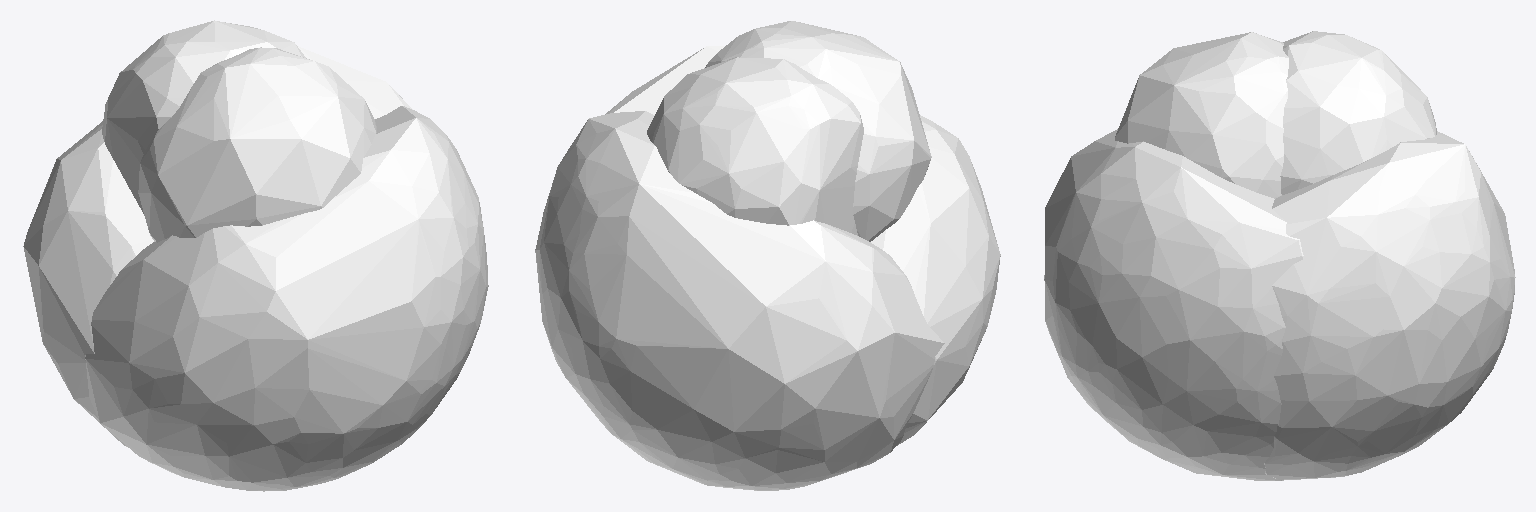
The robot description file, URDF, robot "spiderman_trunk":
<?xml version="1.0"?>
<robot name="spiderman_trunk">
  <material name="White"> <!-- for bones -->
    <color rgba="1 1 1 1"/>
  </material>
  <material name="Green"> <!-- for bones -->
    <color rgba="0 1 0.1 0.2"/>
  </material>

  <link name="base_link"/>
  <joint name="base_link_J" type="fixed">
      <parent link="base_link"/>
      <child link="Pelvis"/>
      <origin rpy="0 0 1.57079632" xyz="0 0 0"/>
   </joint>

   <link name="Pelvis">
      <inertial>
         <origin rpy="0 0 0" xyz="0 0 0"/>
         <mass value="8.4552"/>
         <inertia ixx="0" ixy="0" ixz="0" iyy="0" iyz="0" izz="0"/>
      </inertial>
      <visual>
         <origin xyz="0 0 0" rpy="0 0 0"/>
         <geometry>
            <mesh filename="package://hpp-rbprm-corba/meshes/spiderman/spiderman-pelvis_view.dae"/>
         </geometry>
         <material name="White"/>
      </visual>
      <collision>
         <origin xyz="0 0 0" rpy="0 0 0"/>
         <geometry>
            <mesh filename="package://hpp-rbprm-corba/meshes/spiderman/spiderman-pelvis.stl"/>
         </geometry>
      </collision>
   </link>

 <!--<joint name="pelvis_rfoot_rom_joint" type="fixed">
      <parent link="Pelvis"/>
      <child link="pelvis_rfoot_rom"/>
      <origin rpy="0 0 0" xyz="0 0 0"/>
   </joint>

  <link name="pelvis_rfoot_rom">
      <visual>
         <origin xyz="0 0 0" rpy="0 0 0"/>
         <geometry>
            <mesh filename="package://hpp-rbprm-corba/meshes/spiderman/rfoot_rom.stl"/>
         </geometry>
         <material name="Green"/>
      </visual>
   </link>-->

  <!--<joint name="pelvis_lfoot_rom_joint" type="fixed">
      <parent link="Pelvis"/>
      <child link="pelvis_lfoot_rom"/>
      <origin rpy="0 0 0" xyz="0 0 0"/>
   </joint>

  <link name="pelvis_lfoot_rom">
      <visual>
         <origin xyz="0 0 0" rpy="0 0 0"/>
         <geometry>
            <mesh filename="package://hpp-rbprm-corba/meshes/spiderman/lfoot_rom.stl"/>
         </geometry>
         <material name="Green"/>
      </visual>
   </link>-->

   <link name="Thorax_ry"/>
   <link name="Thorax_rz"/>
   <link name="Thorax">
      <inertial>
         <origin rpy="0 0 0" xyz="0 0 0"/>
         <mass value="19.8372"/>
         <inertia ixx="-0.16485" ixy="0.25777" ixz="0.0015499" iyy="0.20309" iyz="-0.0061998" izz="-0.18263"/>
      </inertial>
      <visual>
         <origin xyz="0 0 0" rpy="0 0 0"/>
         <geometry>
            <mesh filename="package://hpp-rbprm-corba/meshes/spiderman/spiderman-thorax_view.dae"/>
         </geometry>
         <material name="White"/>
      </visual>
      <collision>
         <origin xyz="0 0 0" rpy="0 0 0"/>
         <geometry>
            <mesh filename="package://hpp-rbprm-corba/meshes/spiderman/spiderman-thorax.stl"/>
         </geometry>
      </collision>
   </link>

  <!--<joint name="thorax_rhand_rom_joint" type="fixed">
      <parent link="Thorax"/>
      <child link="thorax_rhand_rom"/>
      <origin rpy="0 0 0" xyz="0 0 0"/>
   </joint>

  <link name="thorax_rhand_rom">
      <visual>
         <origin xyz="0 0 0" rpy="0 0 0"/>
         <geometry>
            <mesh filename="package://hpp-rbprm-corba/meshes/spiderman/rhand_rom.stl"/>
         </geometry>
         <material name="Green"/>
      </visual>
   </link>-->

  <!--<joint name="thorax_lhand_rom_joint" type="fixed">
      <parent link="Thorax"/>
      <child link="thorax_lhand_rom"/>
      <origin rpy="0 0 0" xyz="0 0 0"/>
   </joint>

  <link name="thorax_lhand_rom">
      <visual>
         <origin xyz="0 0 0" rpy="0 0 0"/>
         <geometry>
            <mesh filename="package://hpp-rbprm-corba/meshes/spiderman/lhand_rom.stl"/>
         </geometry>
         <material name="Green"/>
      </visual>
   </link>-->

   <link name="Skull_ry"/>
   <link name="Skull_rz"/>
   <link name="Skull">
      <inertial>
         <origin rpy="0 0 0" xyz="0 0 0"/>
         <mass value="4.2276"/>
         <inertia ixx="0.0071027" ixy="-0.00059867" ixz="-2.9564e-05" iyy="0.0046194" iyz="6.6519e-05" izz="0.0080488"/>
      </inertial>
      <visual>
         <origin xyz="0 0 0" rpy="0 0 0"/>
         <geometry>
            <mesh filename="package://hpp-rbprm-corba/meshes/spiderman/spiderman-skull.stl"/>
         </geometry>
         <material name="White"/>
      </visual>
      <collision>
         <origin xyz="0 0 0" rpy="0 0 0"/>
         <geometry>
            <mesh filename="package://hpp-rbprm-corba/meshes/spiderman/spiderman-skull.stl"/>
         </geometry>
      </collision>
   </link>

  <joint name="A_Thorax_ry" type="revolute"> <!-- A_ added for order while parsing with ROS -->
      <parent link="Pelvis"/>
      <child link="Thorax_ry"/>
      <origin rpy="0 0 0" xyz="0.0006 -0.0373 0.0788"/>
      <axis xyz="0 1 0"/>
      <limit effort="0" lower="-1" upper="1" velocity="1.0"/>
   </joint>
   <joint name="Thorax_rz" type="revolute">
      <parent link="Thorax_ry"/>
      <child link="Thorax_rz"/>
      <origin rpy="0 0 0" xyz="0 0 0"/>
      <axis xyz="0 0 1"/>
      <limit effort="0" lower="-1.5" upper="1.5" velocity="1.0"/>
   </joint>
   <joint name="Thorax_rx" type="revolute">
      <parent link="Thorax_rz"/>
      <child link="Thorax"/>
      <origin rpy="0 0 0" xyz="0 0 0"/>
      <axis xyz="1 0 0"/>
      <limit effort="0" lower="-0.8" upper="0.8" velocity="1.0"/>
   </joint>
   <joint name="A_Skull_ry" type="revolute"> <!-- A_ added for order while parsing with ROS -->
      <parent link="Thorax"/>
      <child link="Skull_ry"/>
      <origin rpy="0 0 0" xyz="-0.0006 0.0160 0.5204"/>
      <axis xyz="0 1 0"/>
      <limit effort="0" lower="-0.3" upper="0.3" velocity="1.0"/>
   </joint>
   <joint name="Skull_rz" type="revolute">
      <parent link="Skull_ry"/>
      <child link="Skull_rz"/>
      <origin rpy="0 0 0" xyz="0 0 0"/>
      <axis xyz="0 0 1"/>
      <limit effort="0" lower="-1.4" upper="1.4" velocity="1.0"/>
   </joint>
   <joint name="Skull_rx" type="revolute">
      <parent link="Skull_rz"/>
      <child link="Skull"/>
      <origin rpy="0 0 0" xyz="0 0 0"/>
      <axis xyz="1 0 0"/>
      <limit effort="0" lower="-1.1" upper="0.6" velocity="1.0"/>
   </joint>
</robot>

--- Render facts (derived) ---
Views: 3 orthographic renders of the robot side by side, from view 1: azimuth 30°, elevation 25°; view 2: azimuth 150°, elevation 25°; view 3: azimuth 270°, elevation 25°.
Model spiderman_trunk with 8 links and 7 joints (6 revolute, 1 fixed), rooted at base_link, posed all joints at 0.
Links seen in each view (by area): view 1: Pelvis, Thorax; view 2: Pelvis, Thorax; view 3: Pelvis, Thorax.
Link boxes in pixels (box(x1,y1,x2,y2)): Pelvis: box(23, 46, 488, 491); Thorax: box(102, 20, 376, 242); Pelvis: box(535, 46, 1000, 490); Thorax: box(647, 21, 931, 241); Pelvis: box(1044, 129, 1515, 480); Thorax: box(1115, 31, 1436, 198).
Bounding box of the posed robot: 1.92 × 2.18 × 2.1 m (x, y, z).
Meshes: 3 distinct files referenced, 3 mesh visuals loaded (1 binary STL, 2 Collada DAE).